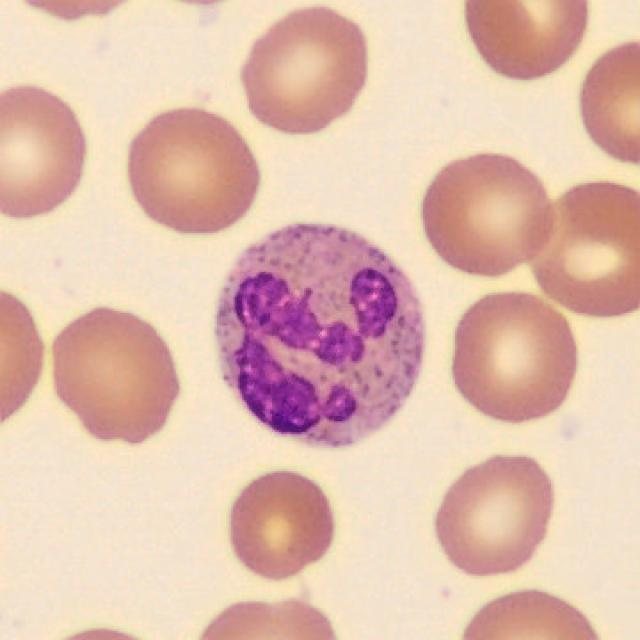Neutrofilo segmentado: (213, 226, 427, 448)
